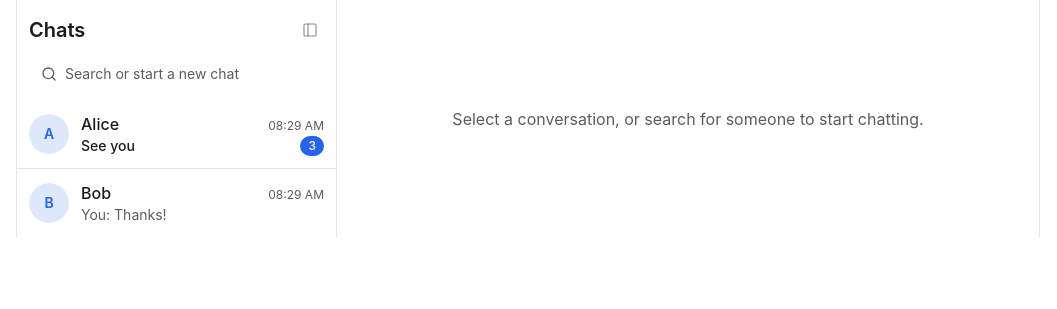
ChatsPage › search › starts a chat with a new person and clears the search
expect the list named "Conversations" is shown: met, box [17, 100, 336, 237]
In the search field named "Search chats or people": (176, 74) [29, 56, 324, 92], type "al"
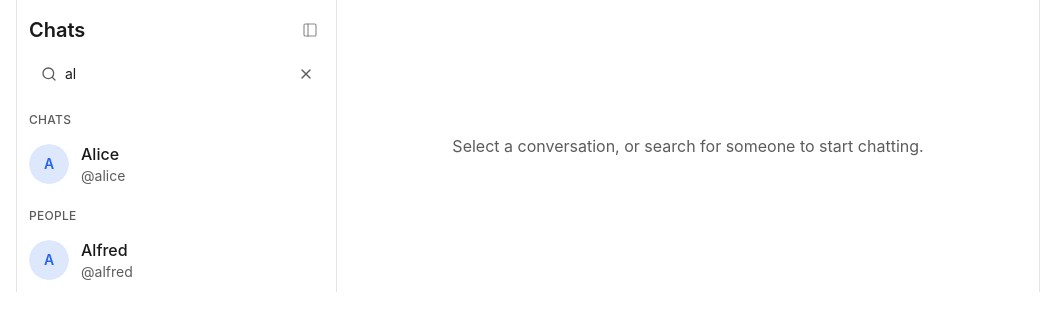
Click the button "A Alfred @alfred": (49, 260) [17, 228, 336, 292]
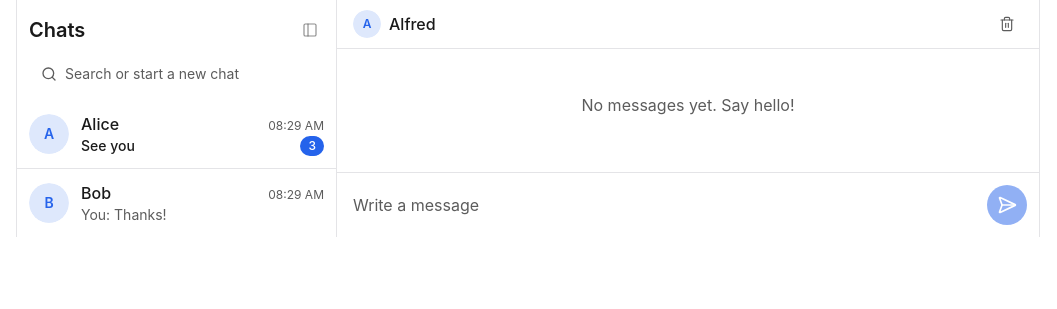
expect the element named "Chat with Alfred" is shown: met, box [337, 0, 1039, 237]
expect the search field named "Search chats or people" is empty: met, box [29, 56, 324, 92]
